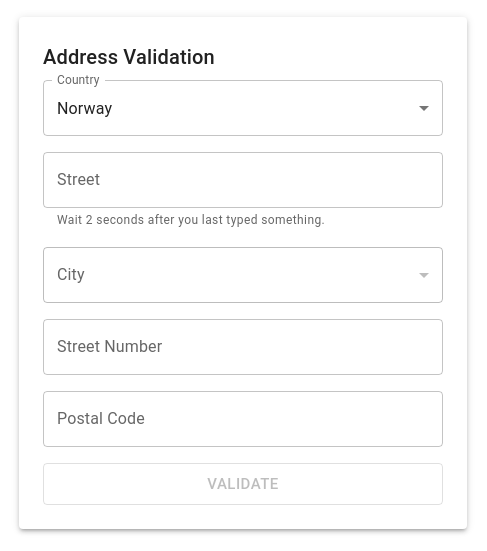
Address Validation › opens the country dropdown and shows options
Click the dropdown labelled "Norway" at point(85, 108), box [57,98,112,118]
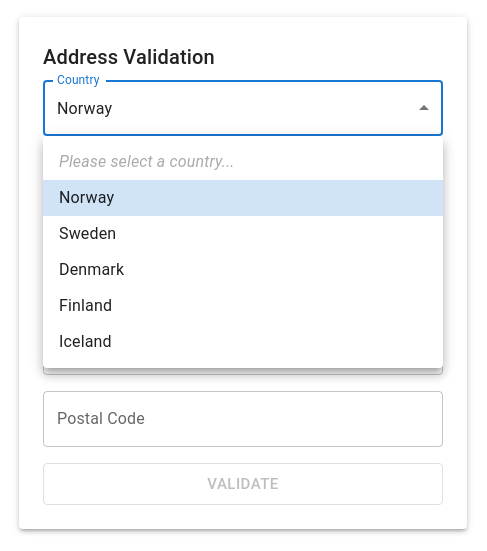
Check: the option "Norway" is shown, box [43,180,443,216]
Check: the option "Sweden" is shown, box [59,224,116,243]
